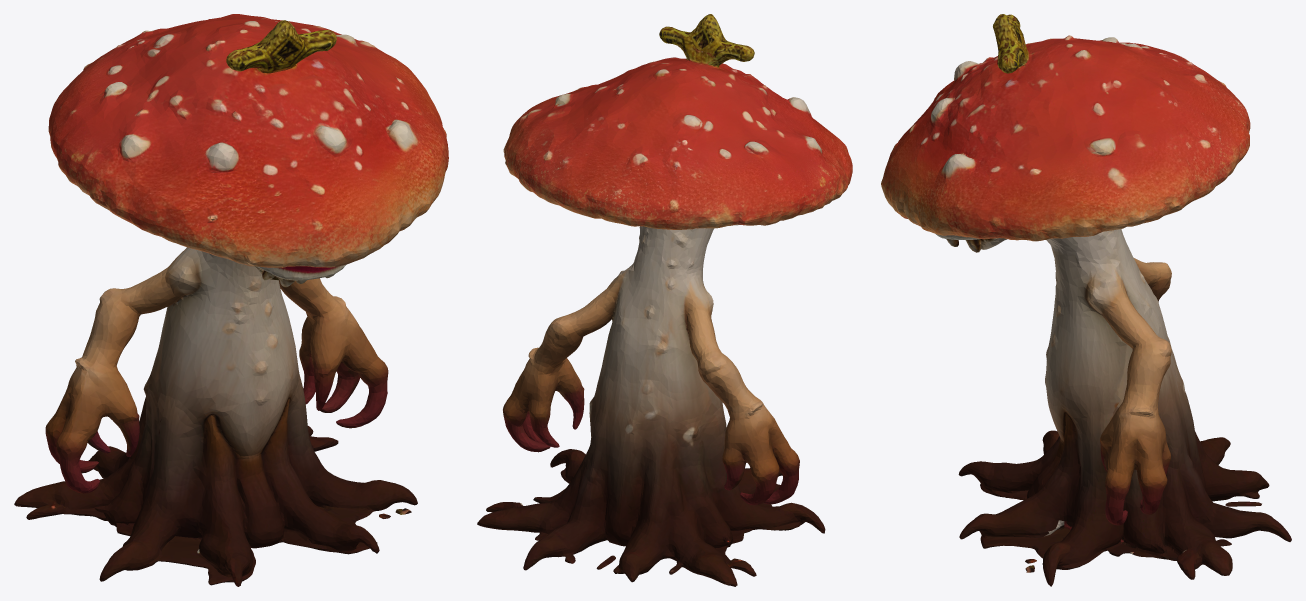
File: plant_mushroomking.glb
3 views of the same model, side by side, from view 1: azimuth 30°, elevation 25°; view 2: azimuth 150°, elevation 25°; view 3: azimuth 270°, elevation 25° (orthographic). The views are drawn at different scales.
Visible parts, largest first — view 1: textured_mesh.obj; view 2: textured_mesh.obj; view 3: textured_mesh.obj.
Part boxes in pixels (x1,y1,x2,y2): textured_mesh.obj: (14,14,448,586); textured_mesh.obj: (477,14,852,586); textured_mesh.obj: (881,14,1291,586).
Bounding box in the file's own units: 1.34 × 1.98 × 1.47.
1 material, 1 textured.
